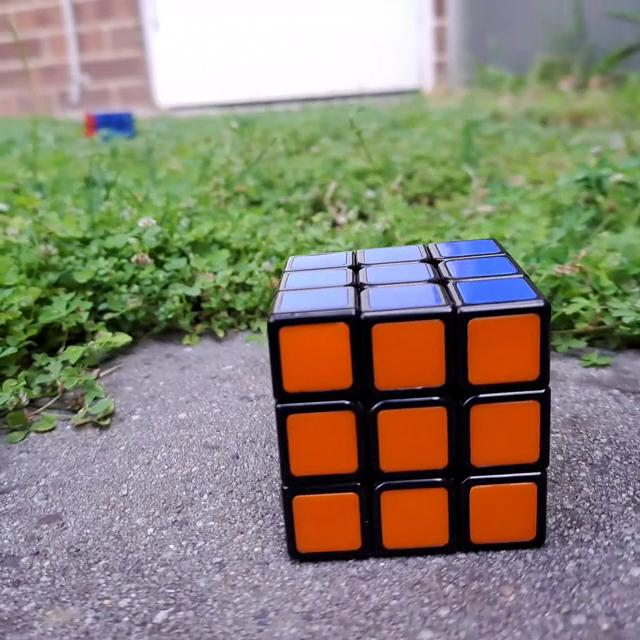rubix_cube: (265, 235, 554, 564), (84, 110, 138, 151)
